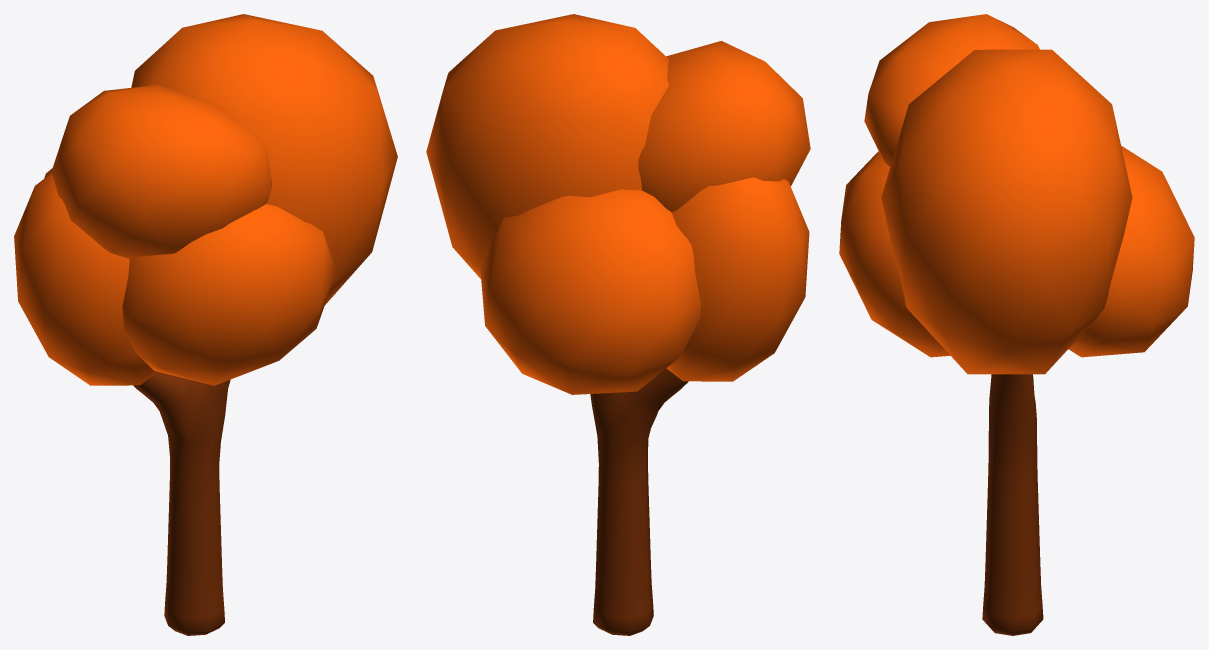
File: Tree002.fbx
3 renders of one model, left to right at view 1: azimuth 30°, elevation 25°; view 2: azimuth 150°, elevation 25°; view 3: azimuth 270°, elevation 25°, orthographic.
Parts seen in each view (by area): view 1: Plane.005; view 2: Plane.005; view 3: Plane.005.
Boxes of the visible parts, <box> form: Plane.005: <box>14,14,397,635</box>; Plane.005: <box>426,14,810,635</box>; Plane.005: <box>839,14,1194,635</box>.
Bounding box in the file's own units: 283 × 452 × 246.
1 material, 1 textured.
